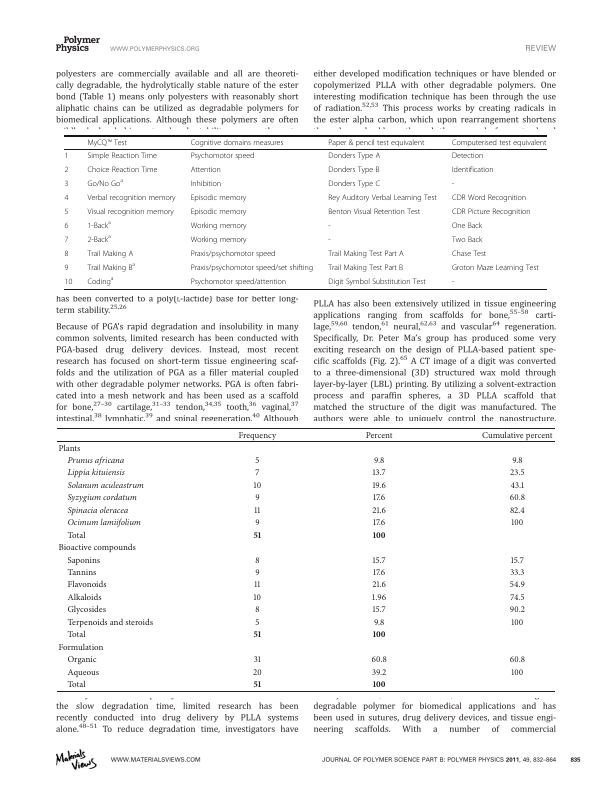borderless: (55, 426, 555, 691), (64, 134, 547, 289)
cell: (190, 263, 314, 273), (327, 193, 438, 203), (327, 277, 427, 287), (190, 277, 287, 287), (66, 617, 154, 628), (327, 207, 421, 217), (86, 193, 176, 203), (86, 207, 175, 217), (451, 263, 540, 273), (327, 138, 425, 147), (57, 542, 137, 553), (66, 480, 145, 491), (451, 138, 547, 147), (190, 249, 276, 259), (190, 138, 284, 147), (66, 517, 142, 528), (451, 207, 532, 217), (481, 430, 554, 441), (327, 249, 405, 259), (327, 263, 404, 273), (451, 193, 527, 203), (86, 151, 158, 161), (86, 165, 158, 175), (66, 493, 138, 503), (66, 505, 129, 516), (190, 151, 255, 161), (66, 455, 125, 466), (86, 261, 136, 273), (66, 468, 126, 478), (190, 221, 248, 231), (190, 235, 248, 245), (190, 193, 247, 203), (190, 207, 247, 217), (327, 151, 381, 161), (327, 179, 381, 189), (327, 165, 380, 175), (57, 642, 104, 653), (86, 249, 134, 259), (86, 177, 124, 189), (451, 165, 494, 175), (238, 430, 277, 441), (66, 580, 108, 590), (66, 605, 107, 615), (66, 592, 103, 603), (86, 138, 128, 147), (66, 667, 100, 678), (451, 249, 487, 259), (66, 654, 98, 665), (66, 555, 101, 565), (66, 567, 97, 578), (86, 275, 114, 287), (451, 151, 484, 161), (190, 165, 222, 175), (190, 179, 222, 189), (451, 221, 483, 231), (451, 235, 483, 245), (365, 430, 394, 441), (86, 219, 112, 231), (86, 233, 112, 245), (57, 443, 81, 453), (66, 530, 87, 541), (66, 679, 87, 690), (66, 630, 87, 640), (509, 505, 526, 516), (509, 592, 526, 603), (371, 654, 388, 665), (509, 654, 526, 665), (371, 480, 387, 491), (371, 505, 387, 516), (509, 567, 525, 578), (371, 592, 387, 603), (371, 667, 387, 678), (509, 468, 526, 478), (509, 493, 526, 503), (509, 580, 526, 590), (509, 605, 526, 615), (510, 480, 525, 491), (371, 580, 387, 590), (372, 517, 386, 528), (510, 517, 524, 528), (372, 567, 386, 578), (510, 617, 524, 628), (510, 667, 524, 678), (372, 468, 387, 478), (372, 555, 387, 565), (510, 555, 525, 565), (372, 605, 387, 615), (511, 455, 524, 466), (372, 493, 386, 503), (372, 679, 387, 688), (373, 455, 385, 466), (373, 617, 385, 628), (252, 667, 263, 678), (372, 530, 387, 538), (372, 630, 387, 638), (253, 480, 262, 491), (253, 592, 262, 603), (253, 654, 262, 665), (64, 277, 73, 287), (253, 505, 261, 516), (253, 679, 262, 688), (253, 580, 261, 590), (254, 517, 261, 528), (254, 567, 261, 578), (253, 530, 262, 538), (253, 630, 262, 638), (254, 493, 261, 503), (254, 555, 261, 565), (254, 605, 261, 615), (254, 455, 260, 466), (254, 617, 260, 628), (63, 151, 69, 161), (63, 165, 69, 175), (63, 179, 69, 189), (254, 468, 260, 478), (64, 193, 69, 203), (64, 207, 69, 217), (64, 221, 69, 231), (327, 221, 332, 231), (64, 235, 69, 245), (327, 235, 332, 245), (64, 249, 69, 259), (64, 263, 69, 273), (451, 179, 455, 189), (451, 277, 455, 287)
